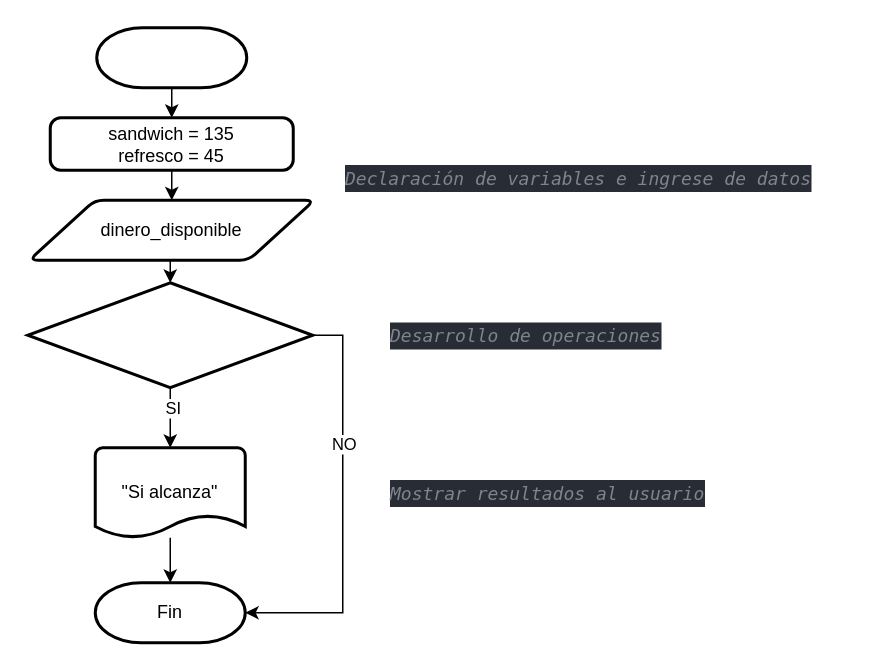
The diagram is 878 pixels wide and 669 high, and some of its shapes have lost their labels. Each missing label, with the centre of its shape:
"dinero_disponible >= (sandwich+refresco)" belongs at (x=170, y=334).
"Inicio" belongs at (x=171, y=57).
